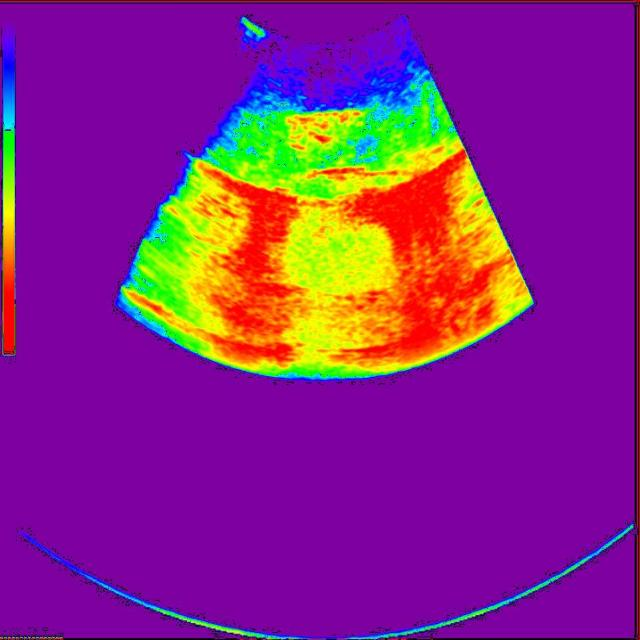lamb liver post: (284, 110, 375, 179)
